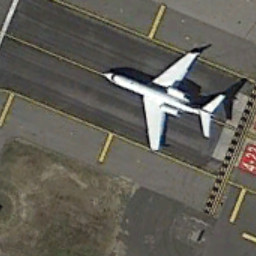Airplane: (99, 37, 229, 160)
